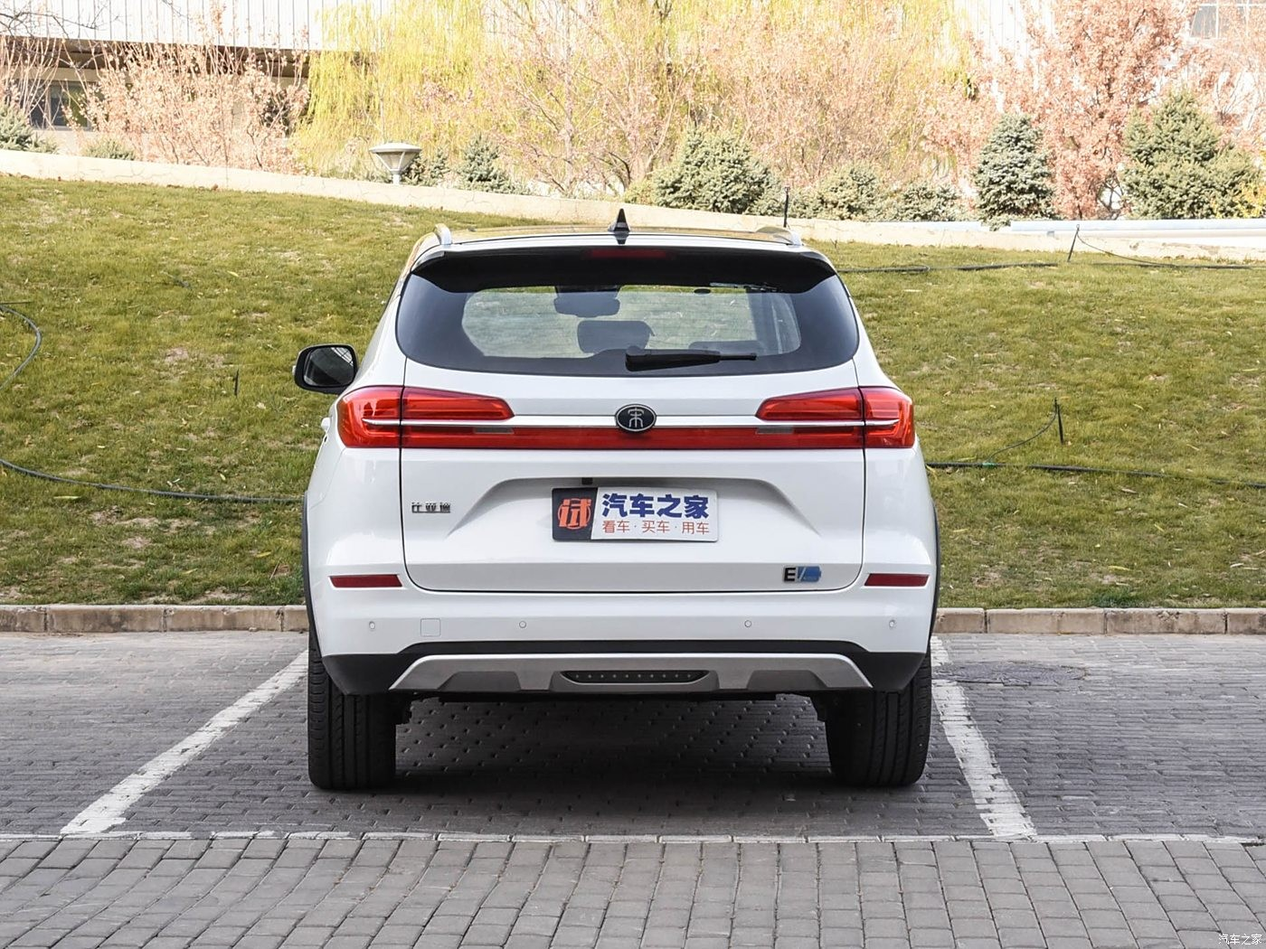BYD Song: (616, 404, 656, 431)
